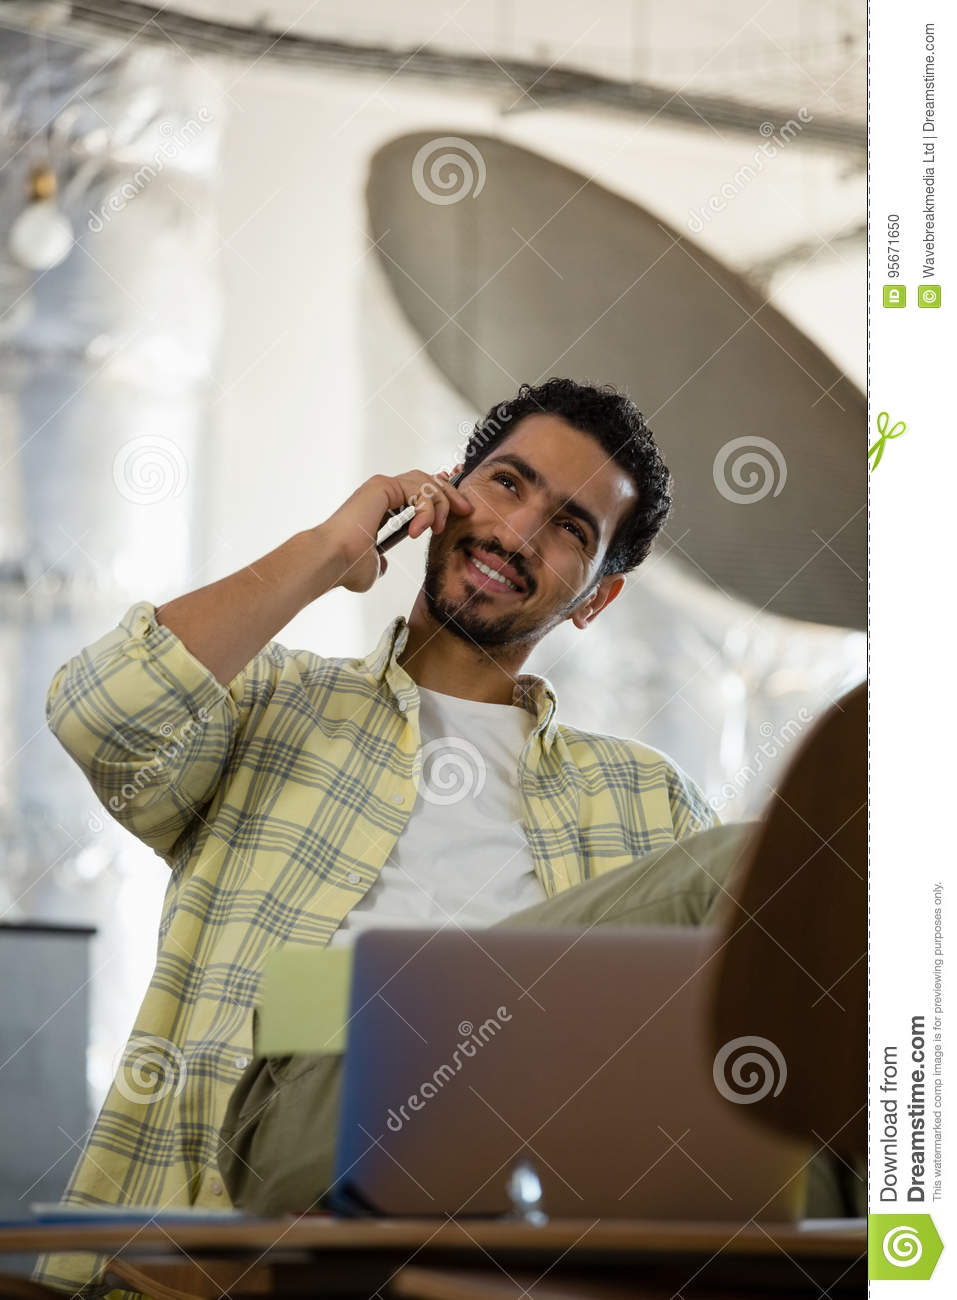phone: (368, 467, 459, 564)
talk: (306, 447, 605, 645)
